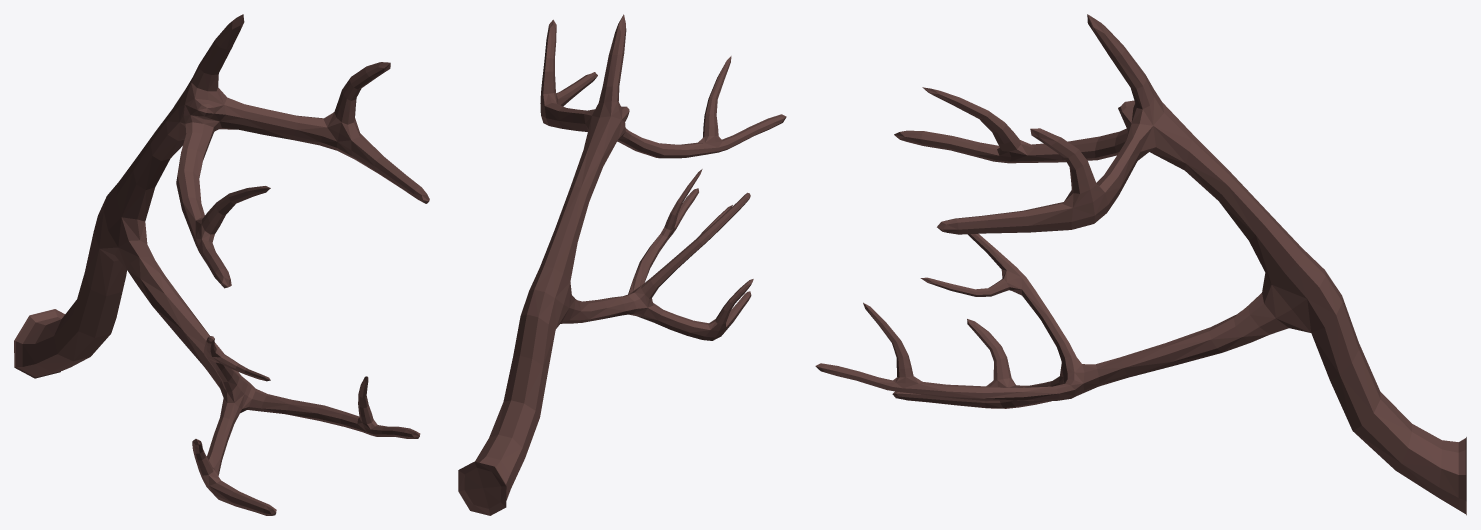
The model's file is tree-bare-willow-2-26-ft.obj.
3 views of the same model, side by side, from view 1: azimuth 30°, elevation 25°; view 2: azimuth 150°, elevation 25°; view 3: azimuth 270°, elevation 25° (orthographic). The views are drawn at different scales.
Parts seen in each view (by area): view 1: tree-bare-willow-2-26-ft; view 2: tree-bare-willow-2-26-ft; view 3: tree-bare-willow-2-26-ft.
Boxes of the visible parts, bbox=[...] form: tree-bare-willow-2-26-ft: bbox=[14, 14, 429, 515]; tree-bare-willow-2-26-ft: bbox=[458, 14, 786, 515]; tree-bare-willow-2-26-ft: bbox=[815, 14, 1466, 515].
Bounding box in the file's own units: 129 × 264 × 312.
